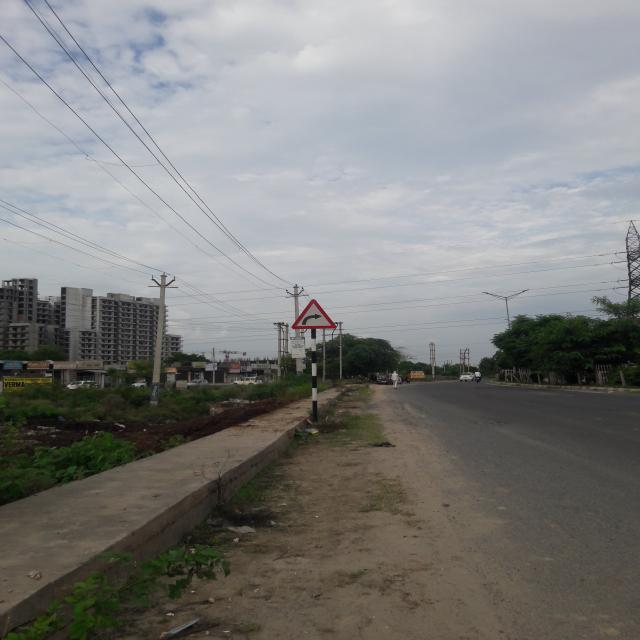right hand curve: (291, 299, 336, 330)
